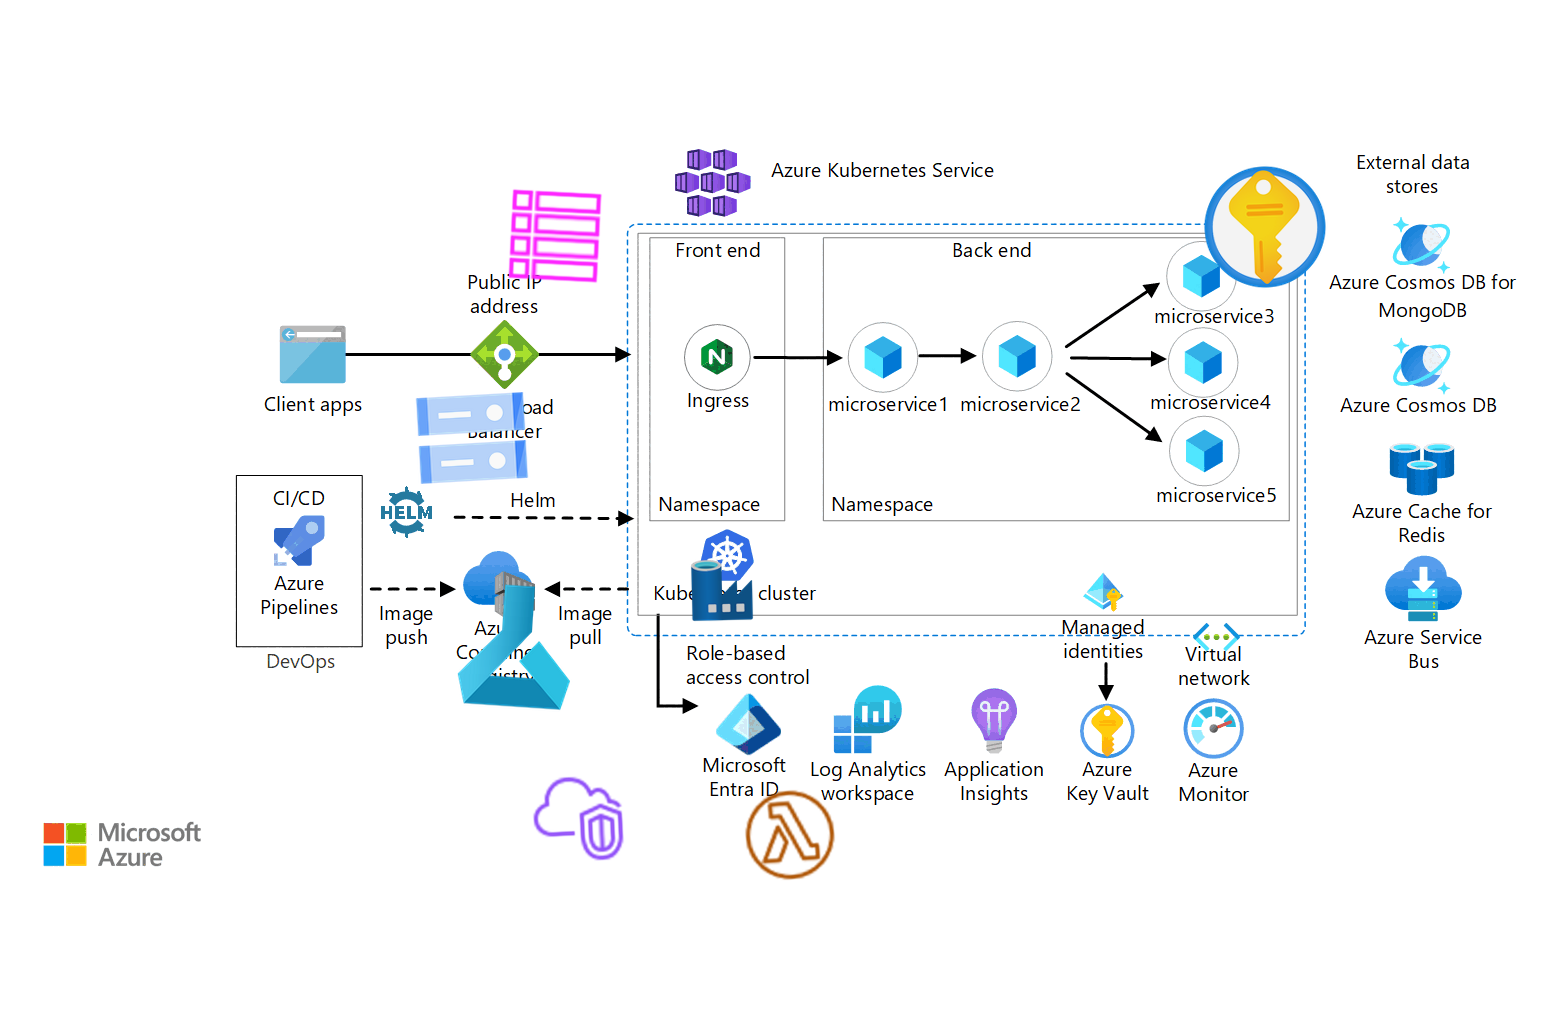aws_dynamodb_table: (504, 185, 606, 287)
aws_lambda_lambda_function: (738, 783, 842, 887)
aws_vpc_virtual_private_cloud_vpc: (527, 768, 629, 870)
azure_data_factories: (689, 557, 755, 624)
azure_key_vaults: (1198, 160, 1332, 293)
azure_machine_learning: (447, 577, 585, 715)
gcp_cloud_storage: (404, 370, 540, 505)
